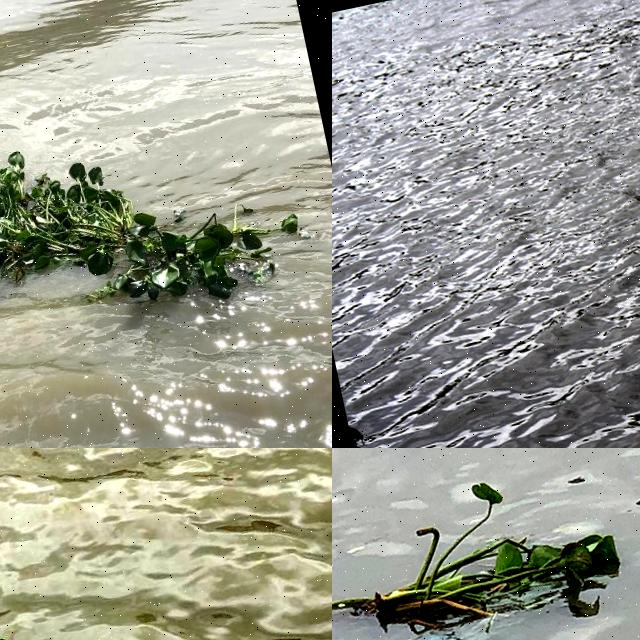water-hyacinth: (1, 105, 225, 377), (333, 449, 639, 640), (116, 188, 324, 317)
